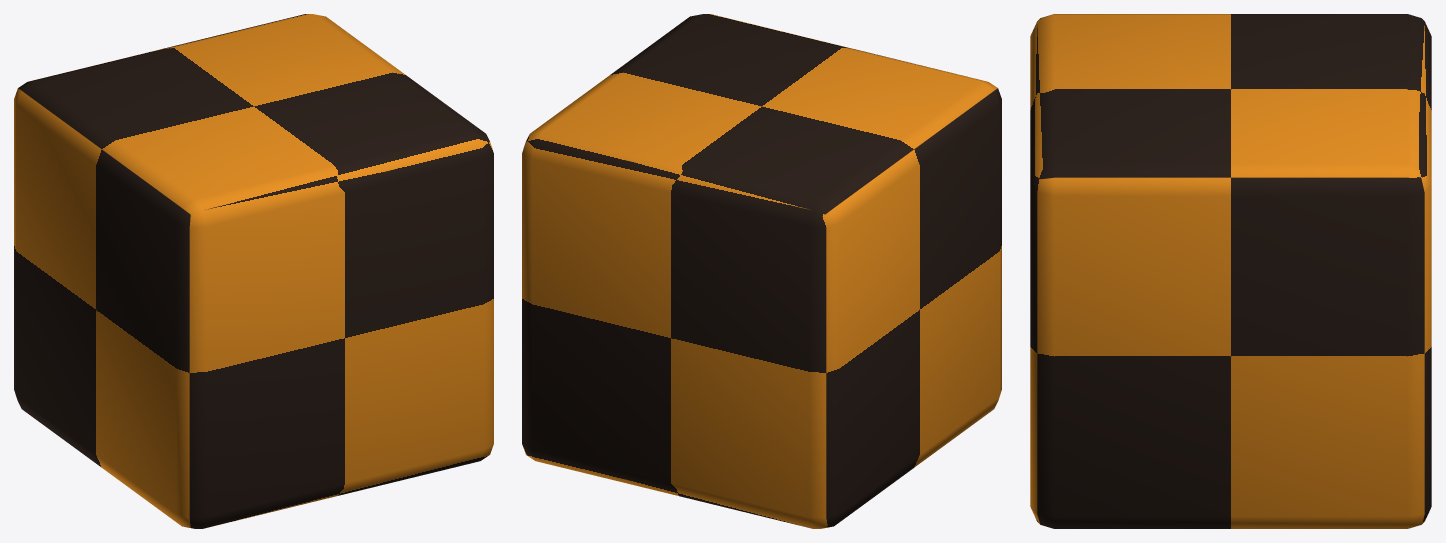
File: static-textured.fbx
3 renders of one model, left to right at view 1: azimuth 30°, elevation 25°; view 2: azimuth 150°, elevation 25°; view 3: azimuth 270°, elevation 25°, orthographic. The views are drawn at different scales.
Visible parts, largest first — view 1: Crate; view 2: Crate; view 3: Crate.
Part boxes in pixels (box(x1,y1,x2,y2)): Crate: box(14, 14, 493, 528); Crate: box(522, 14, 1001, 528); Crate: box(1030, 14, 1431, 528).
Bounding box in the file's own units: 100 × 100 × 100.
Materials: 1 (1 with a texture image).
